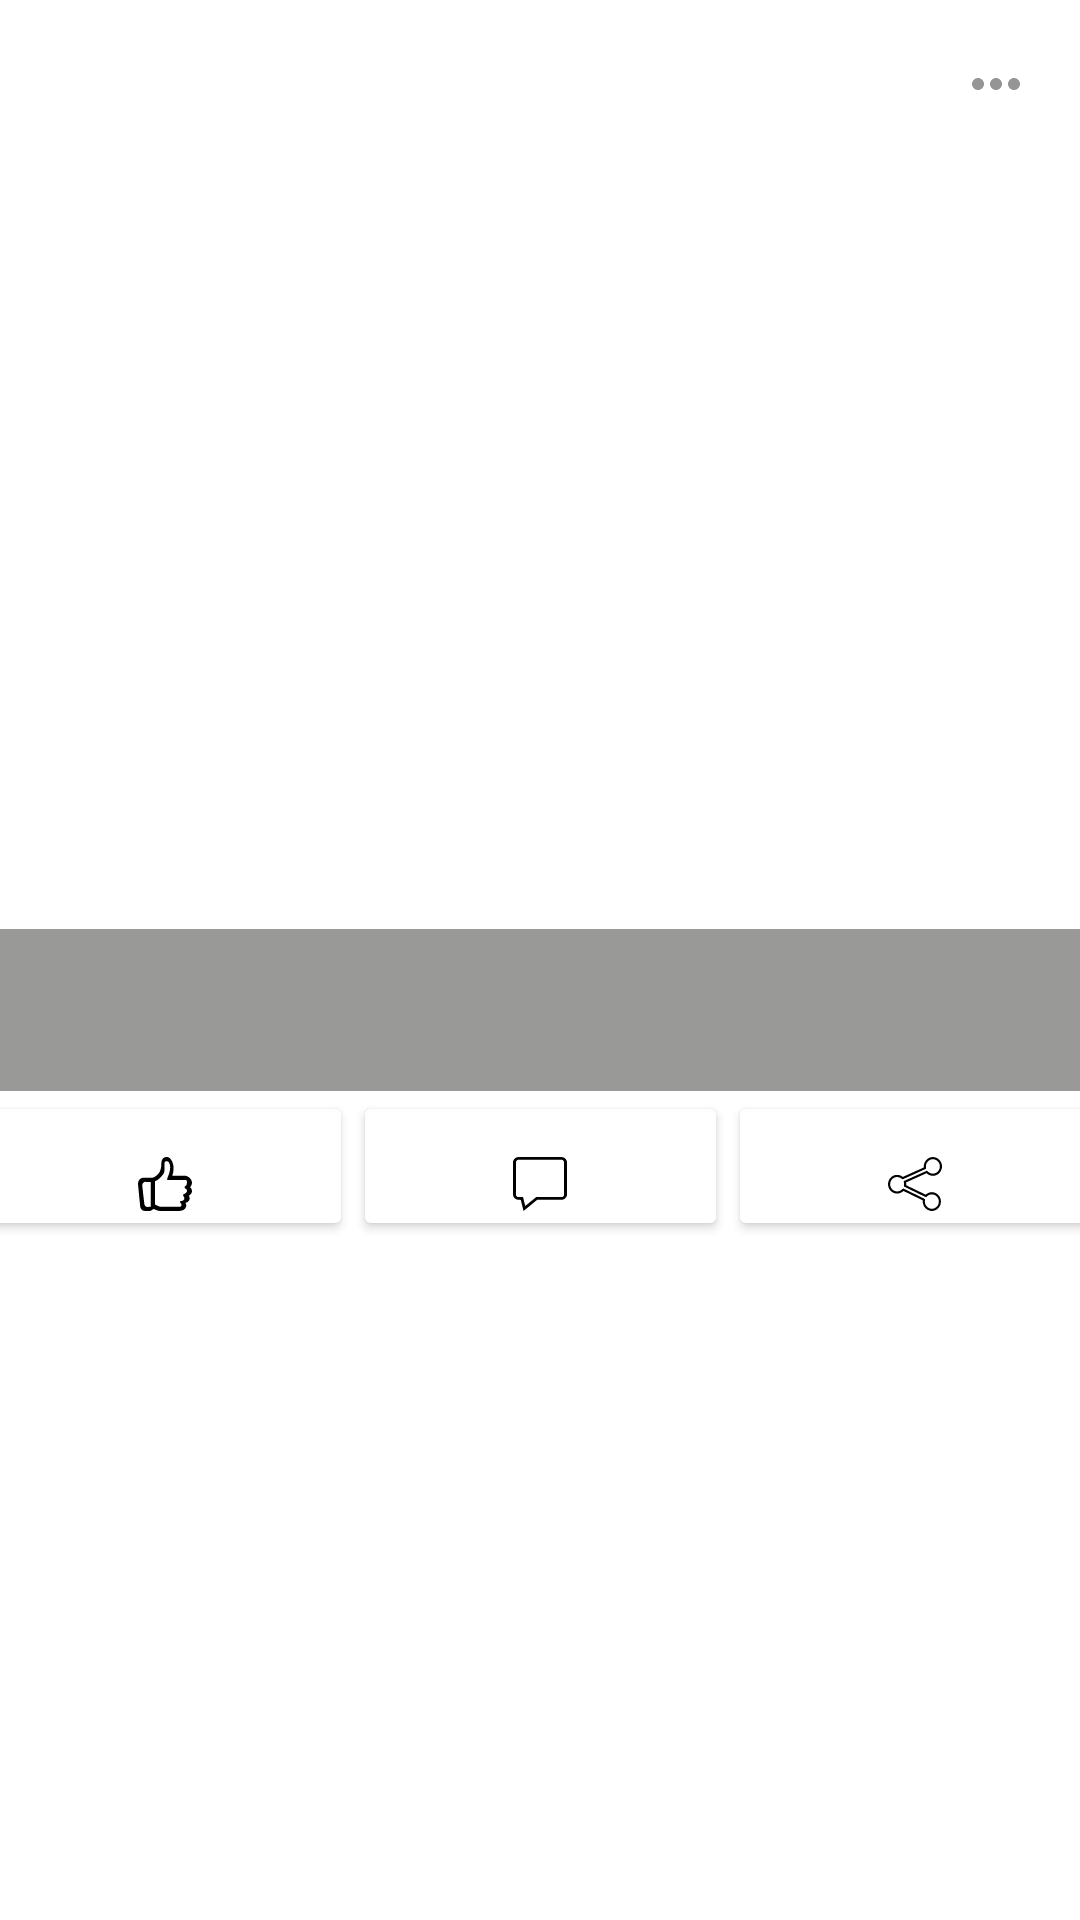

Named icons in this screenshot (1080×1920) and their bounding boxes, (x1, y1, x2, y2):
more horiz: (972, 78, 1020, 90)
